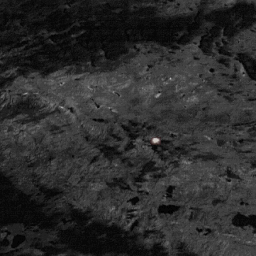Target: (150, 136, 160, 145)
